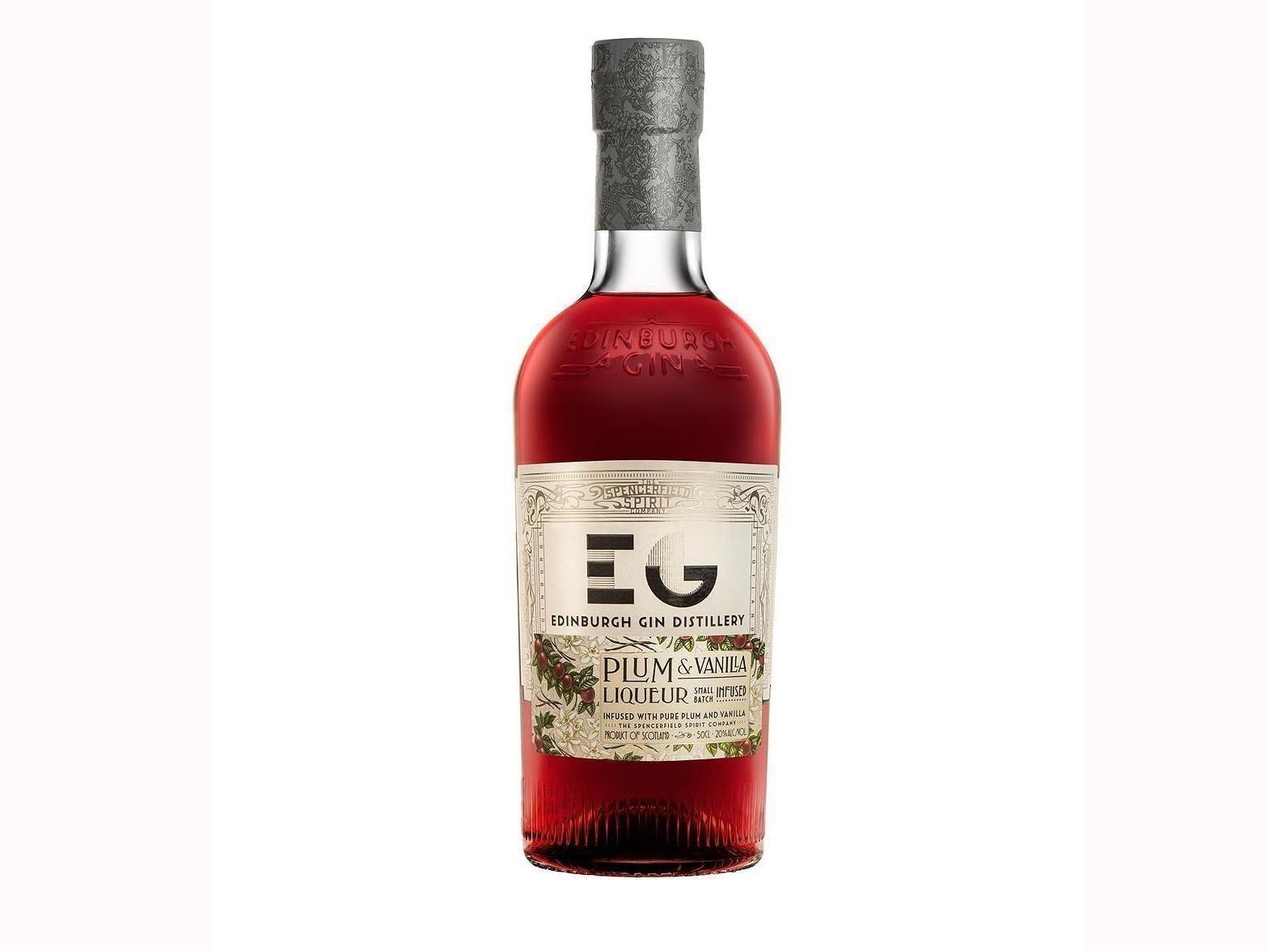bottle-glass: (506, 19, 790, 880)
